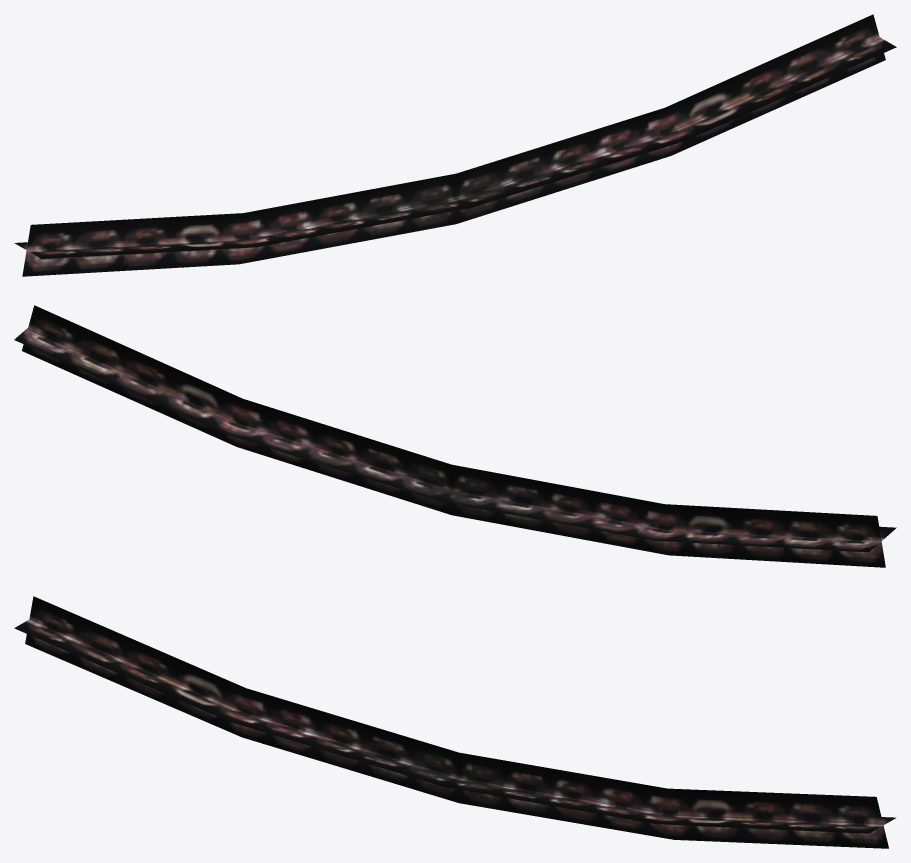
Rendered from SV_AFT_jingjichang_suolian_1.FBX.
3 views of the same model, one above another, from view 1: azimuth 30°, elevation 25°; view 2: azimuth 150°, elevation 25°; view 3: azimuth 330°, elevation 25° (orthographic).
Visible parts, largest first — view 1: SV_MOT_jingjichang_suolian_1; view 2: SV_MOT_jingjichang_suolian_1; view 3: SV_MOT_jingjichang_suolian_1.
Boxes of the visible parts, x1=… form: SV_MOT_jingjichang_suolian_1: x1=14, y1=14, x2=896, y2=276; SV_MOT_jingjichang_suolian_1: x1=14, y1=305, x2=896, y2=567; SV_MOT_jingjichang_suolian_1: x1=14, y1=596, x2=896, y2=848.
Size of the model in its own units: 28.13 by 3.37 by 1.59.
1 material, 1 textured.
